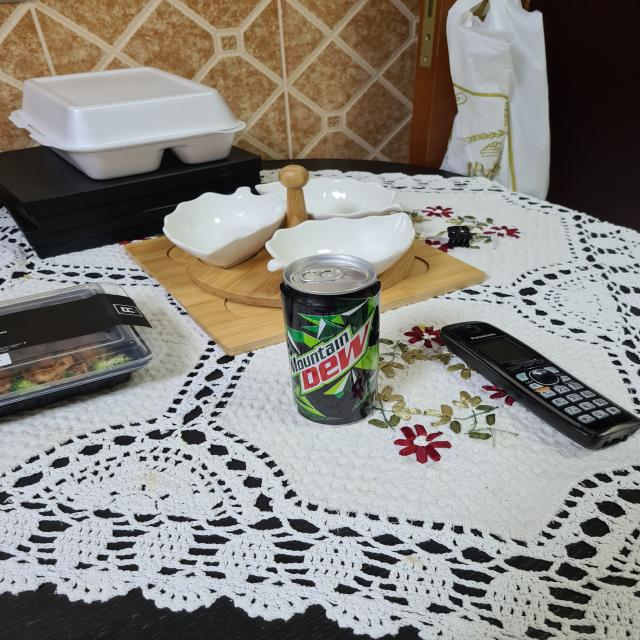non-organic waste: (280, 251, 381, 426)
